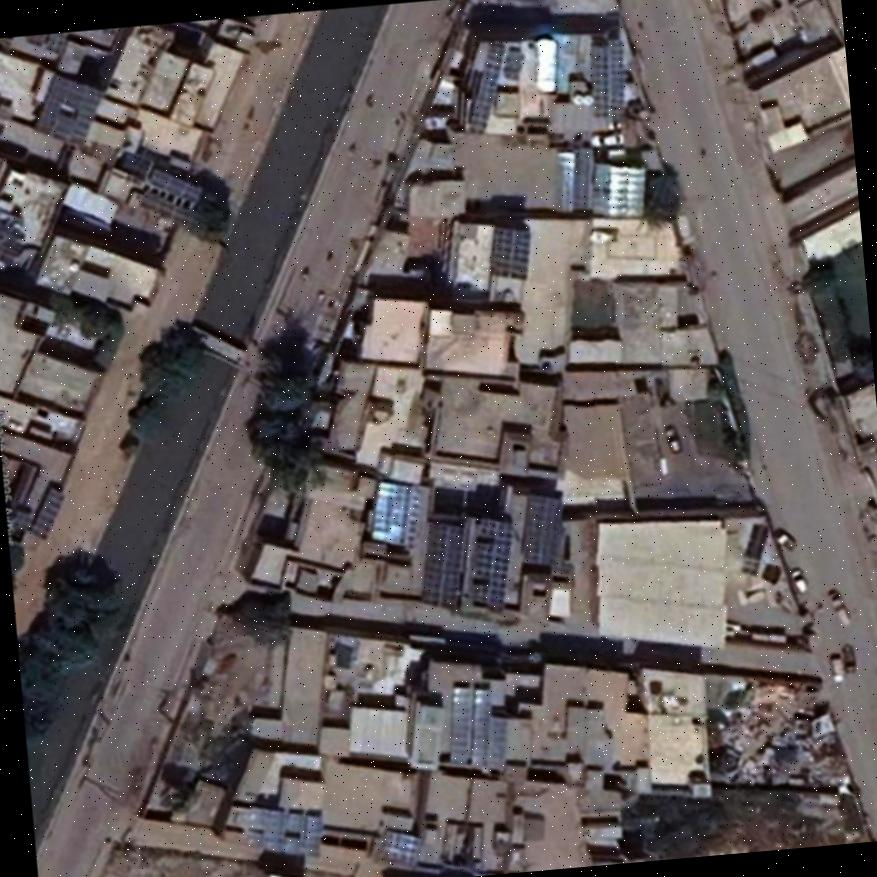Solarpanel: (35, 75, 102, 149), (470, 518, 514, 612), (421, 521, 463, 608), (371, 483, 420, 542), (524, 495, 559, 565), (592, 36, 621, 117), (472, 42, 500, 125), (492, 225, 528, 279), (381, 828, 419, 865)
